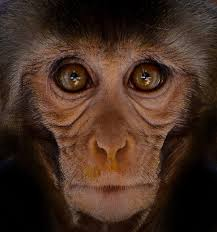monkey: (12, 2, 204, 216)
